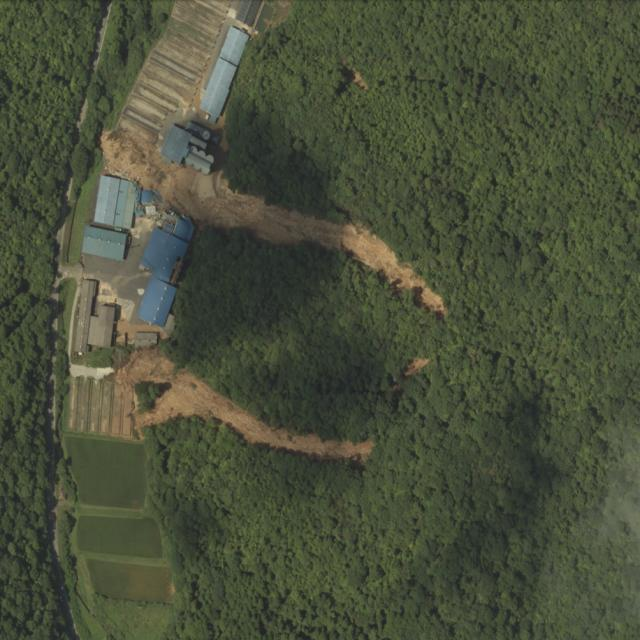landslide: (100, 128, 445, 314), (113, 348, 372, 461)
